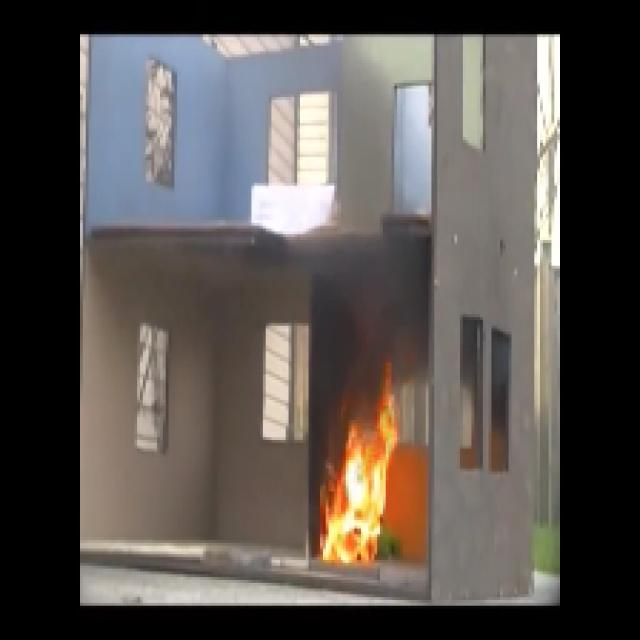fire: (321, 420, 394, 564)
smoke: (321, 248, 418, 354)
